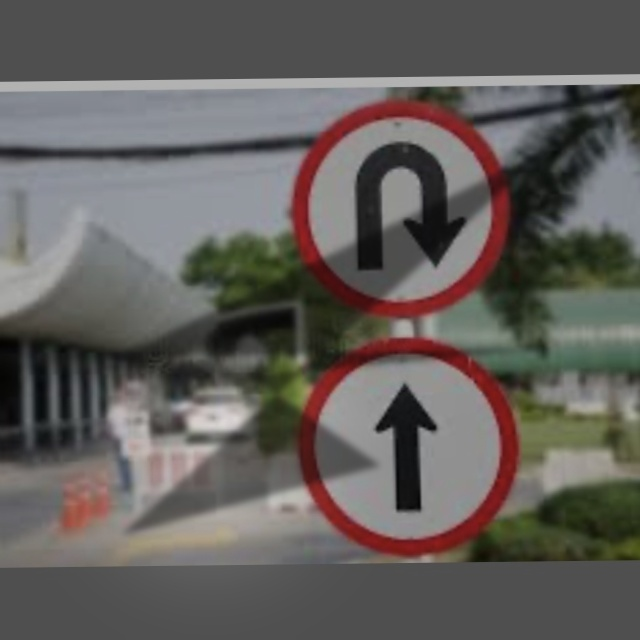U_Turn_Ahead: (294, 102, 512, 307)
